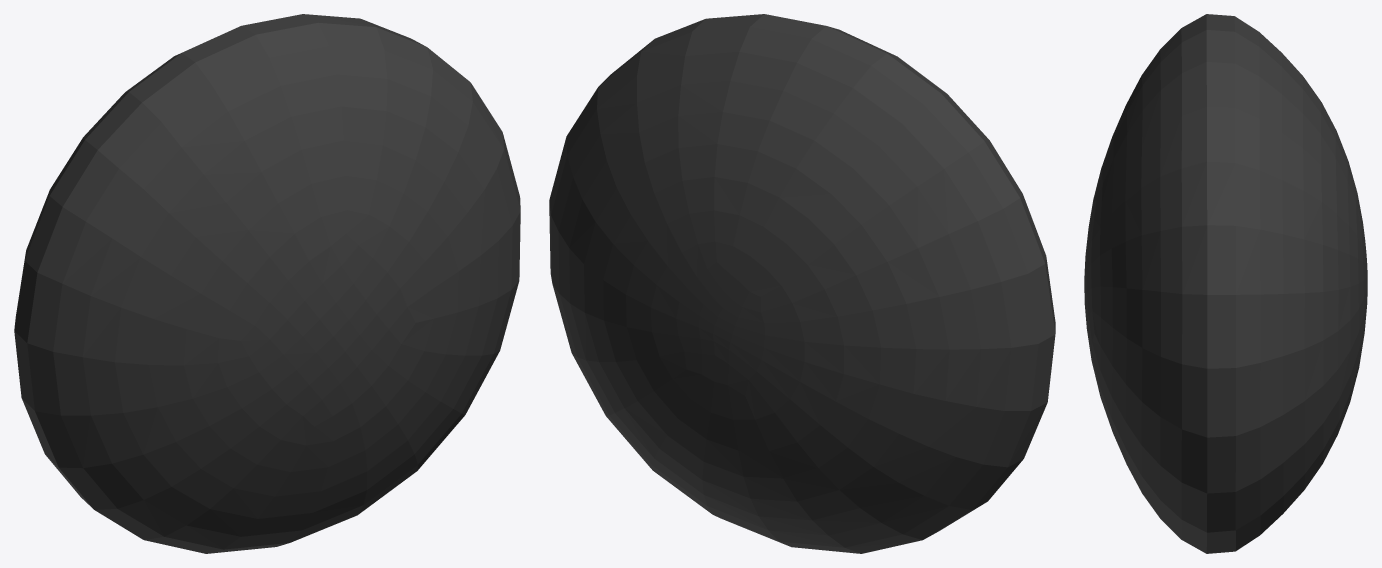
Rendered from Lens.glb.
The picture shows the model from 3 angles, left to right: view 1: azimuth 30°, elevation 25°; view 2: azimuth 150°, elevation 25°; view 3: azimuth 270°, elevation 25°; orthographic projection. The views are drawn at different scales.
Parts seen in each view (by area): view 1: Lens; view 2: Lens; view 3: Lens.
Boxes of the visible parts, bbox=[...] form: Lens: bbox=[14, 14, 520, 553]; Lens: bbox=[549, 14, 1055, 553]; Lens: bbox=[1084, 14, 1367, 553].
Size of the model in its own units: 1.11 by 1.11 by 0.5813.
Materials: 1 (1 with a texture image).
